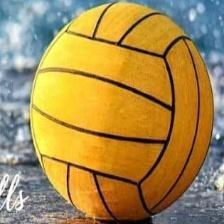Sports-Ball: (30, 1, 213, 224)
